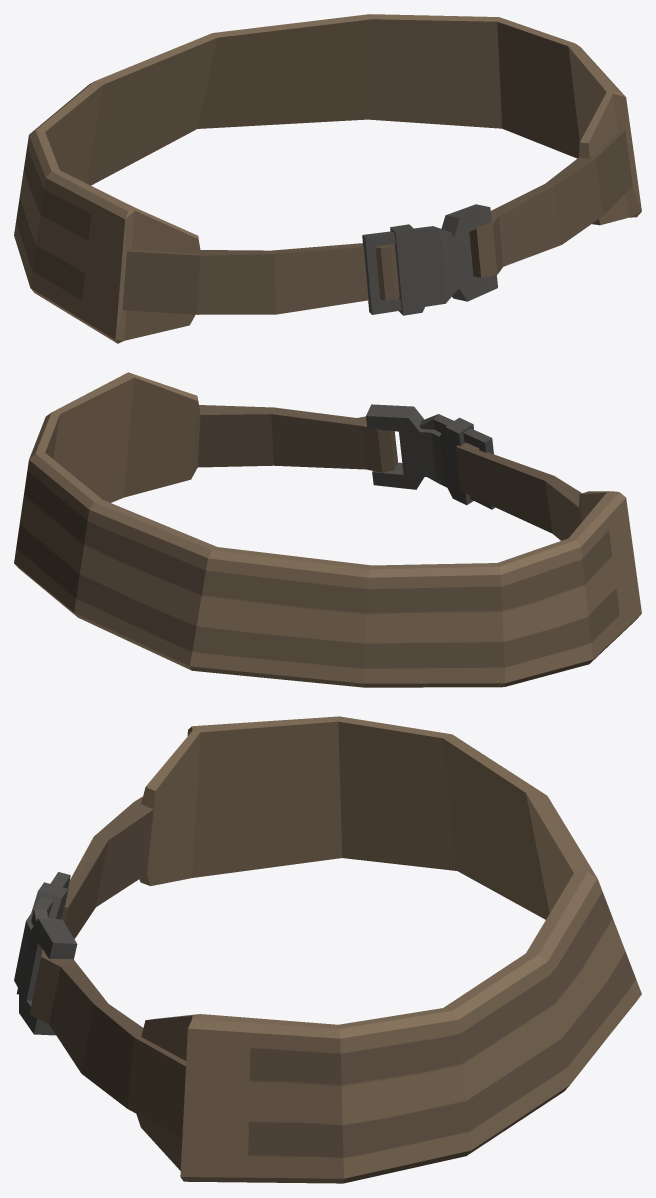
The model's file is Belt_01_SM.FBX.
3 views of the same model, one above another, from view 1: azimuth 30°, elevation 25°; view 2: azimuth 150°, elevation 25°; view 3: azimuth 270°, elevation 25° (orthographic). The views are drawn at different scales.
Visible parts, largest first — view 1: Belt_01_SM; view 2: Belt_01_SM; view 3: Belt_01_SM.
Boxes of the visible parts, left/top/right/bottom form: Belt_01_SM: left=14, top=14, right=641, bottom=343; Belt_01_SM: left=14, top=372, right=641, bottom=687; Belt_01_SM: left=14, top=716, right=641, bottom=1183.
Size of what is drawn, in the model's own units: 37.25 by 29.45 by 8.01.
